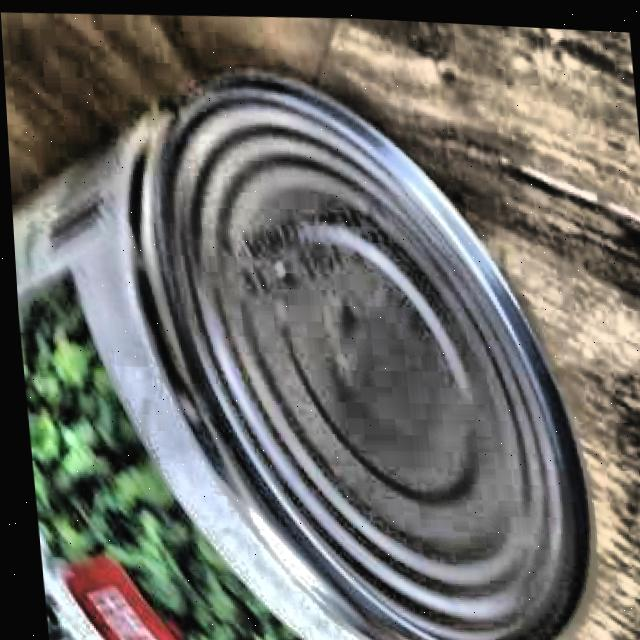metal: (9, 78, 598, 640)
